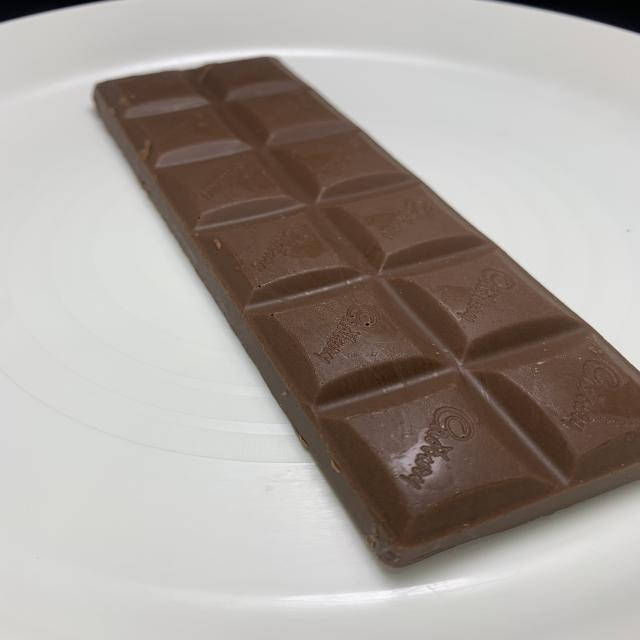Chocolate: (93, 54, 640, 571)
